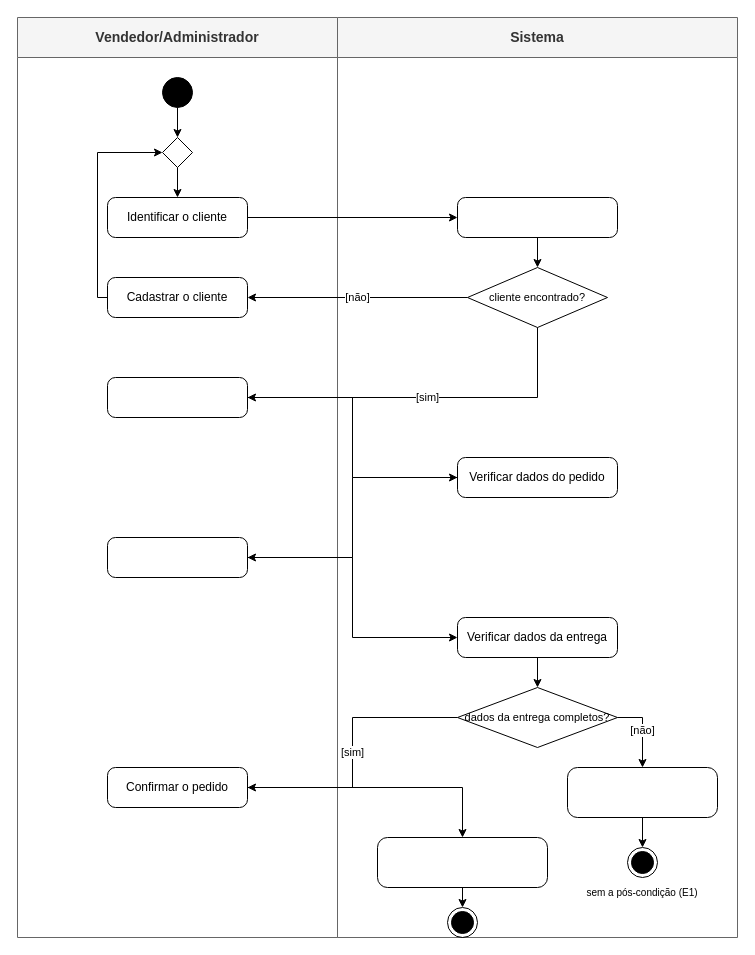
Image size: 755x955. Some labels were removed from this diagram. Here are the shapes that lost their labels. From the top down, the centre of each, then its label:
At (537,217): "Buscar cadastro do cliente".
At (177,397): "Informar os dados do pedido".
At (177,557): "Informar dados da entrega".
At (642,792): "Informar que os dados estão incompletos".
At (462,862): "Registrar o pedido vinculado ao cliente".
